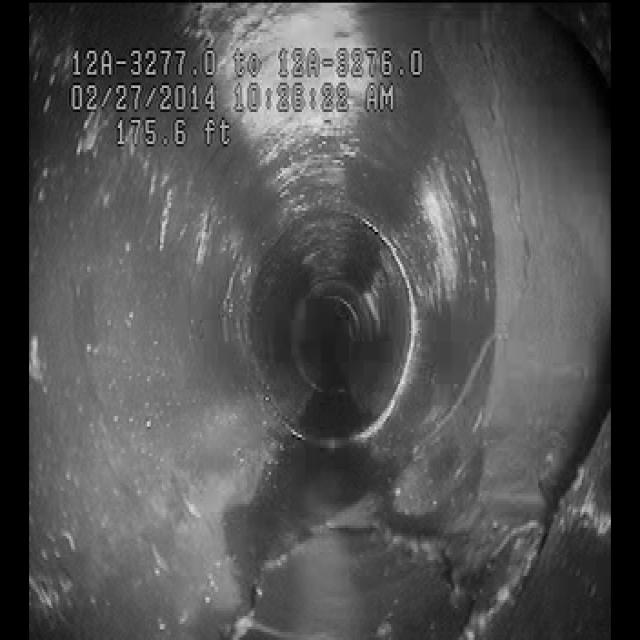Fracture: (350, 430, 547, 612)
